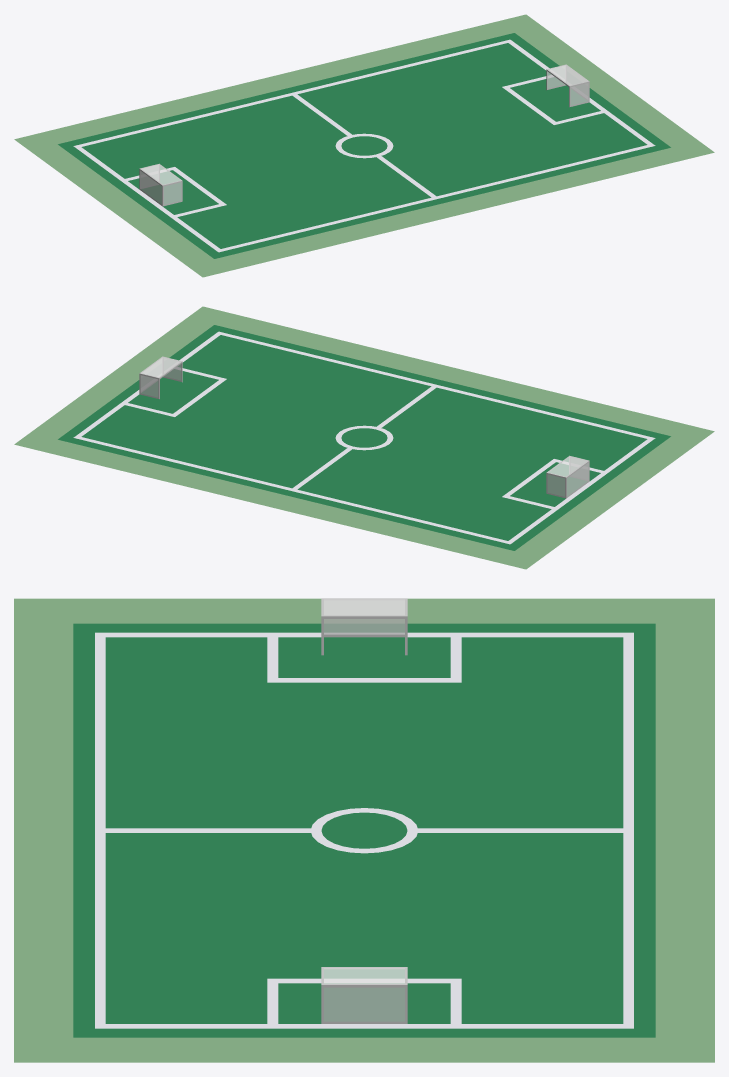
Rendered from 75_soccer.dae.
The picture shows the model from 3 angles, top to bottom: view 1: azimuth 30°, elevation 25°; view 2: azimuth 150°, elevation 25°; view 3: azimuth 270°, elevation 25°; orthographic projection. The views are drawn at different scales.
Visible parts, largest first — view 1: group_0 (×8); view 2: group_0 (×8); view 3: group_0 (×14).
Boxes of the visible parts, left/top/right/bottom form: group_0 (×8): left=14, top=14, right=714, bottom=277; group_0 (×8): left=14, top=306, right=714, bottom=569; group_0 (×14): left=14, top=598, right=714, bottom=1062.
Size of the model in its own units: 195 by 124 by 7.63.
